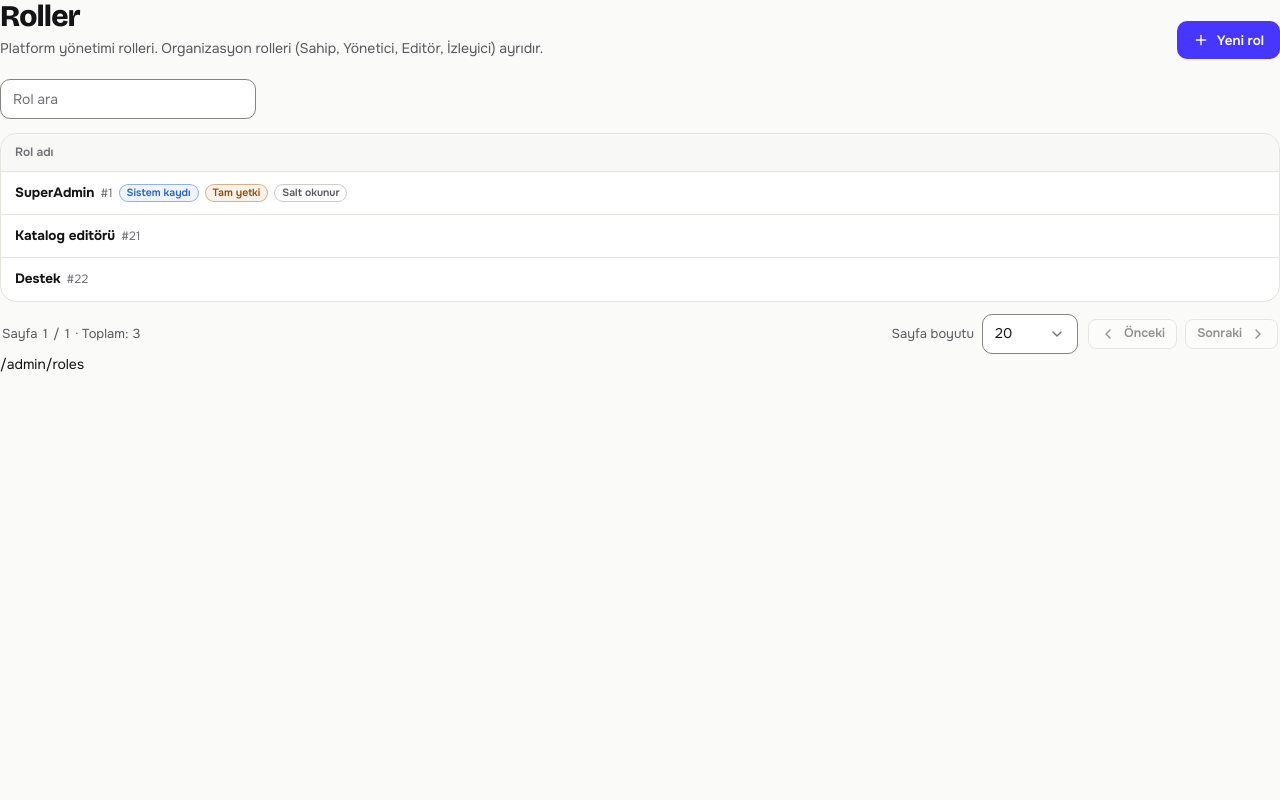
Test: RolesPage › opens a role in a drawer with its grouped permissions and users
The width and height of the screenshot is (1280, 800).
Click the text "Katalog editörü" at (65,236), box [15,226,115,246]
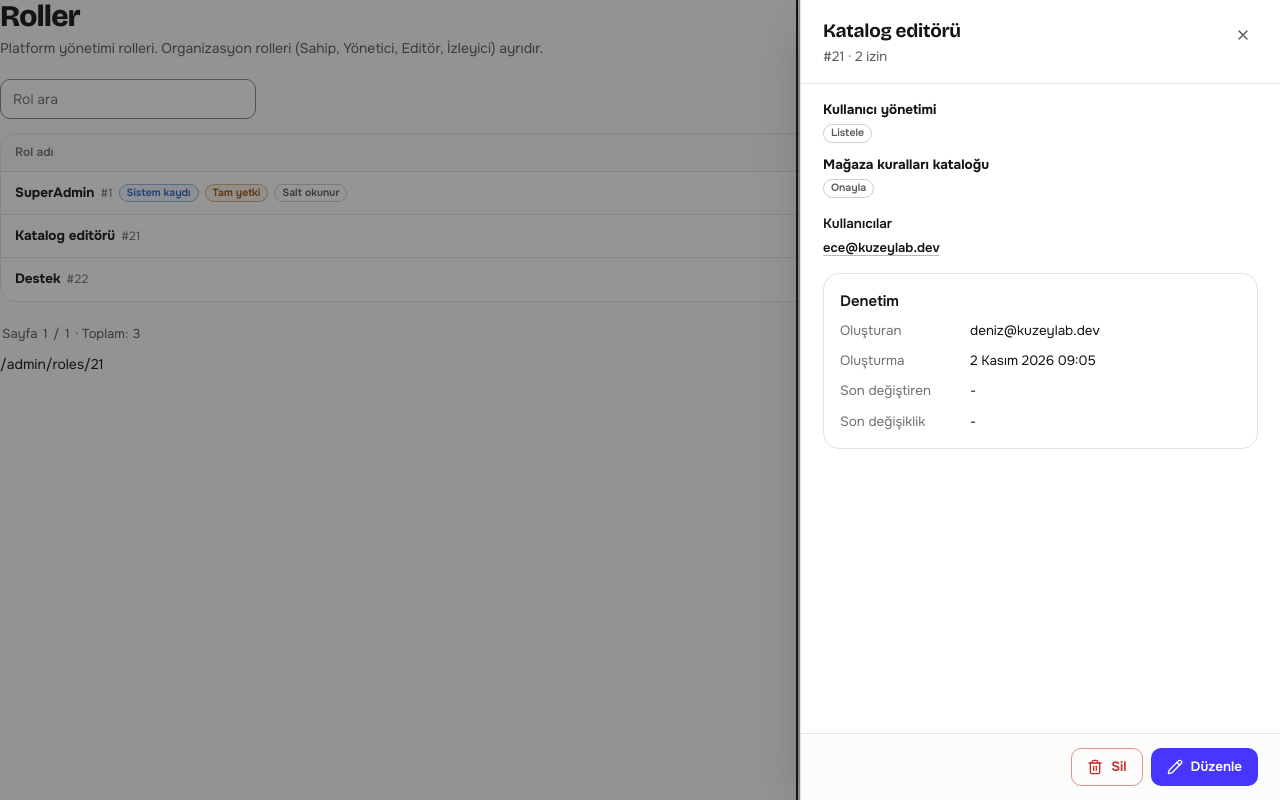
Expected: the text "Kullanıcı yönetimi" is shown, [823,101,936,118]
Expected: the text "Listele" is shown, [823,124,872,143]
Expected: the text "Onayla" is shown, [823,179,874,198]
